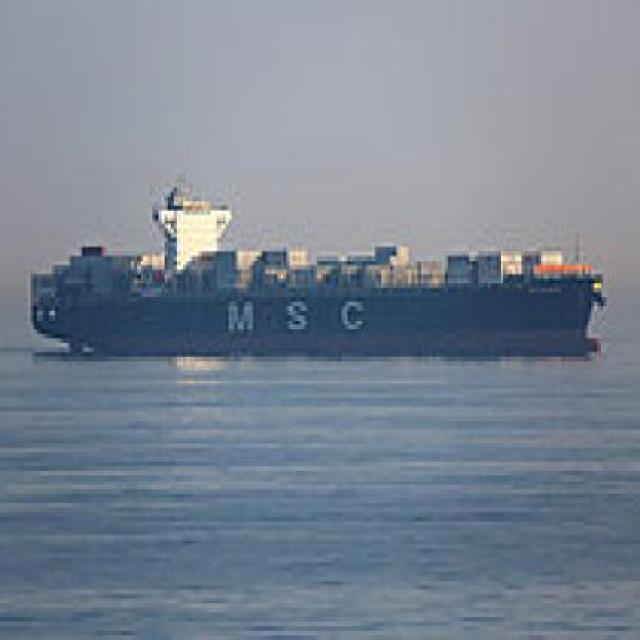container: (25, 166, 614, 372)
